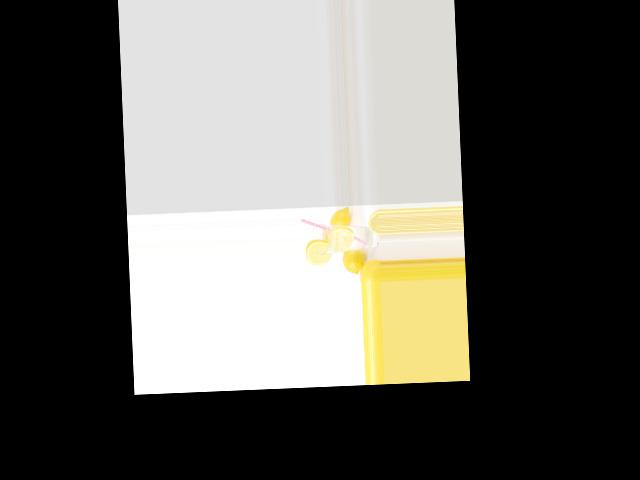lemon: (329, 207, 354, 232)
